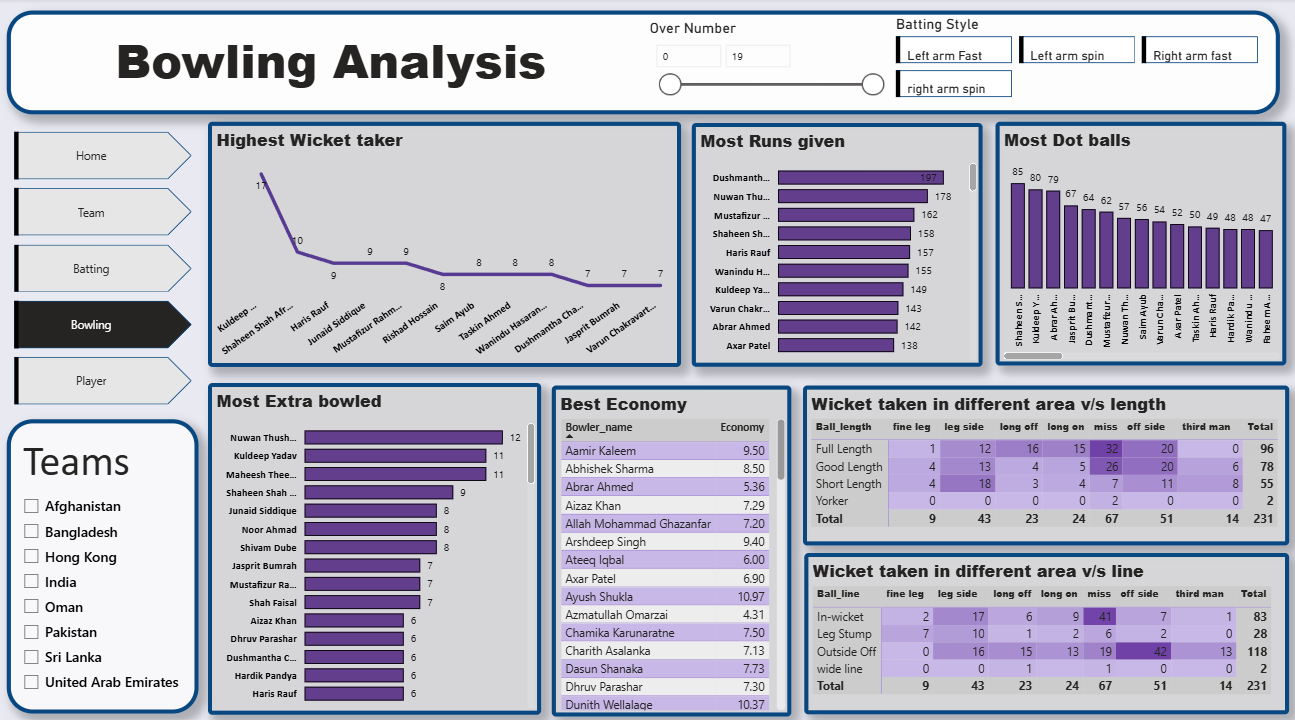

Layout of this report page (visuals, bound fields, positions):
{"tool":"powerbi","page":{"name":"Bowling","canvas":[1500,850],"ordinal":3},"visuals":[{"type":"textbox","box":[10,15,1470,120],"z":0},{"type":"textbox","box":[10,486.7,221.7,340],"z":1000},{"type":"pageNavigator","box":[18.3,155,205,316.7],"z":2000},{"type":"slicer","title":"Over Number","fields":{"Values":["ball_by_ball.over_number"]},"box":[748.4,24.2,283.9,96.8],"z":3000},{"type":"advancedSlicerVisual","title":"Batting Style","fields":{"Values":["ball_by_ball.Bowling_style"]},"box":[1032.4,20.9,429.4,99.7],"z":4000},{"type":"slicer","fields":{"Values":["ball_by_ball.Bowler_team"]},"box":[17.7,567.7,204.8,253.2],"z":5000},{"type":"pivotTable","title":"Wicket taken in different area v/s length","fields":{"Rows":["ball_by_ball.Ball_length"],"Columns":["ball_by_ball.Shot_area"],"Values":["ball_by_ball.Wicket"]},"box":[929.5,447,561.2,184.9],"z":6000},{"type":"pivotTable","title":"Wicket taken in different area v/s line","fields":{"Rows":["ball_by_ball.Ball_line"],"Columns":["ball_by_ball.Shot_area"],"Values":["ball_by_ball.Wicket"]},"box":[931.1,641.6,559.6,186.5],"z":7000},{"type":"lineChart","title":"Highest Wicket taker","fields":{"Category":["ball_by_ball.Bowler_name"],"Y":["ball_by_ball.Wicket"]},"box":[242.8,143.1,546.7,283],"z":8000},{"type":"columnChart","title":"Most Dot balls","fields":{"Y":["ball_by_ball.0's"],"Category":["ball_by_ball.Bowler_name"]},"box":[1151.4,143.1,336.1,281.4],"z":9000},{"type":"barChart","title":"Most Runs given","fields":{"Category":["ball_by_ball.Bowler_name"],"Y":["ball_by_ball.Run_scored"]},"box":[800.8,144.7,336.1,281.4],"z":10000},{"type":"tableEx","title":"Best Economy","fields":{"Values":["ball_by_ball.Bowler_name","ball_by_ball.Economy"]},"box":[640,447,276.6,382.7],"z":11000},{"type":"clusteredBarChart","title":"Most Extra bowled","fields":{"Category":["ball_by_ball.Bowler_name"],"Y":["ball_by_ball.Extra"]},"box":[242.1,444.4,384.6,383.1],"z":12000}]}

Visuals, with their boxes in screenshot pixels (x1, y1, x2, y2), scaled from the page's 1500x850 canvas onto the 1295x720 screenshot:
textbox: rect(9, 13, 1278, 114)
textbox: rect(9, 412, 200, 700)
pageNavigator: rect(16, 131, 193, 400)
"Over Number" slicer: rect(646, 20, 891, 102)
"Batting Style" advancedSlicerVisual: rect(891, 18, 1262, 102)
slicer - ball_by_ball.Bowler_team: rect(15, 481, 192, 695)
"Wicket taken in different area v/s length" pivotTable: rect(802, 379, 1287, 535)
"Wicket taken in different area v/s line" pivotTable: rect(804, 543, 1287, 701)
"Highest Wicket taker" lineChart: rect(210, 121, 682, 361)
"Most Dot balls" columnChart: rect(994, 121, 1284, 360)
"Most Runs given" barChart: rect(691, 123, 982, 361)
"Best Economy" tableEx: rect(553, 379, 791, 703)
"Most Extra bowled" clusteredBarChart: rect(209, 376, 541, 701)
